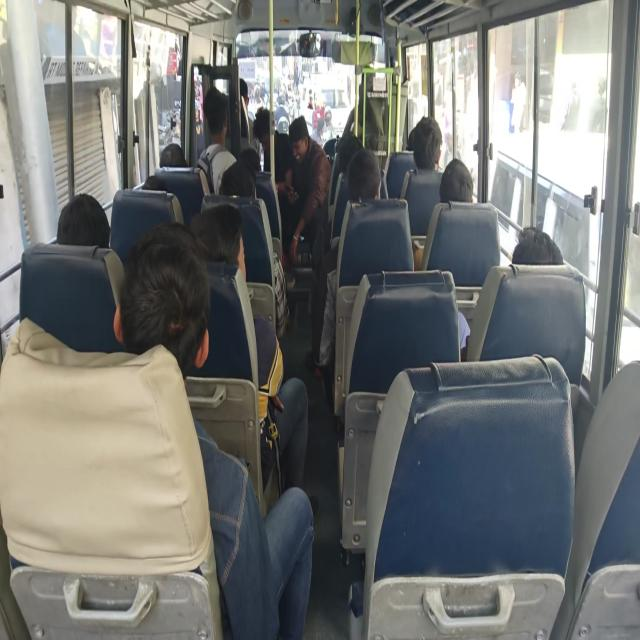person: (113, 221, 314, 638), (190, 202, 310, 494), (314, 148, 382, 374), (458, 225, 564, 361), (280, 114, 332, 270), (412, 158, 473, 270), (196, 86, 237, 195), (252, 107, 294, 199), (56, 192, 110, 248), (341, 82, 379, 146), (406, 114, 443, 170), (512, 226, 564, 265), (439, 158, 473, 203), (508, 71, 526, 133), (588, 76, 607, 132), (561, 80, 580, 131), (158, 142, 188, 168)
